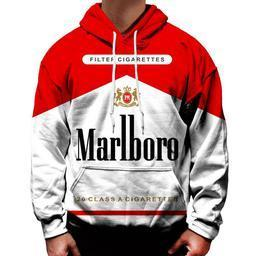sweater: (30, 4, 230, 242)
